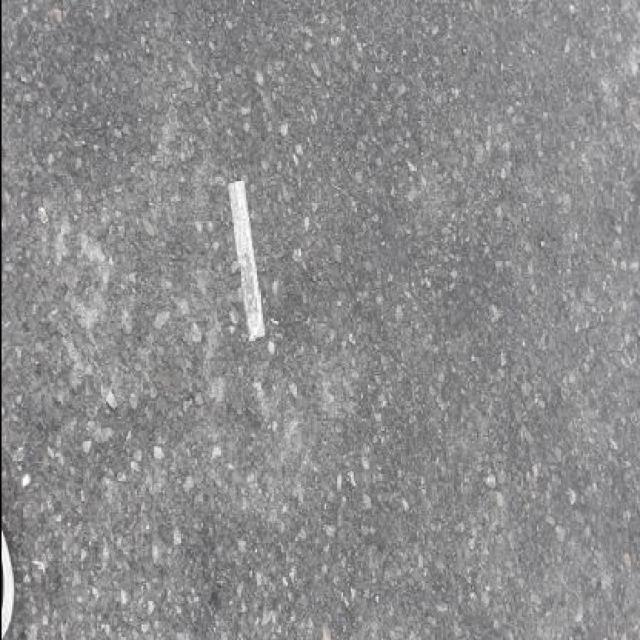plastic: (298, 226, 460, 263)
